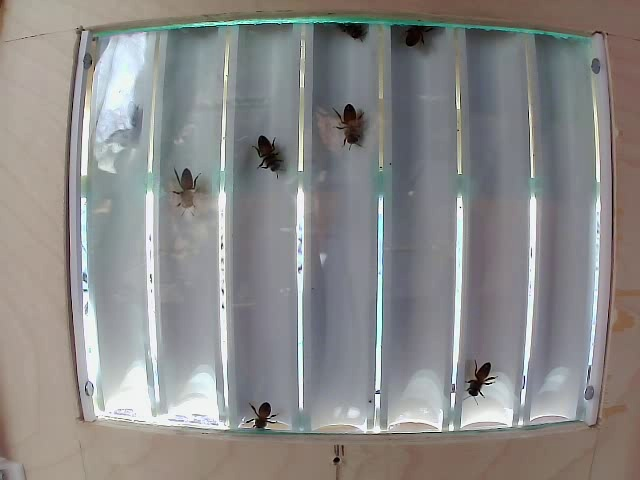bee: (253, 128, 292, 186), (170, 161, 211, 213), (462, 352, 511, 395), (334, 102, 369, 145), (400, 16, 437, 51)
